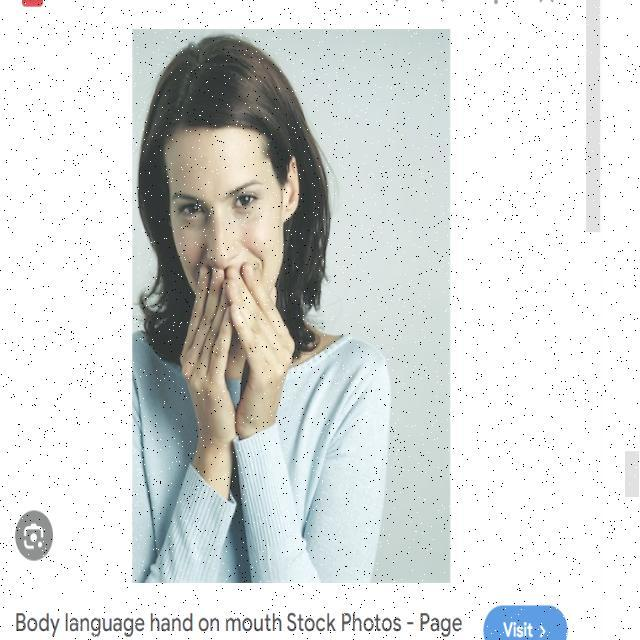face_with_hand: (165, 131, 303, 363)
